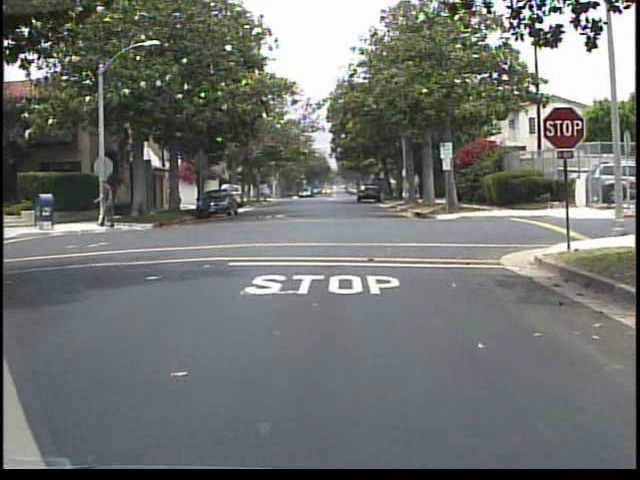person: (94, 172, 122, 233)
